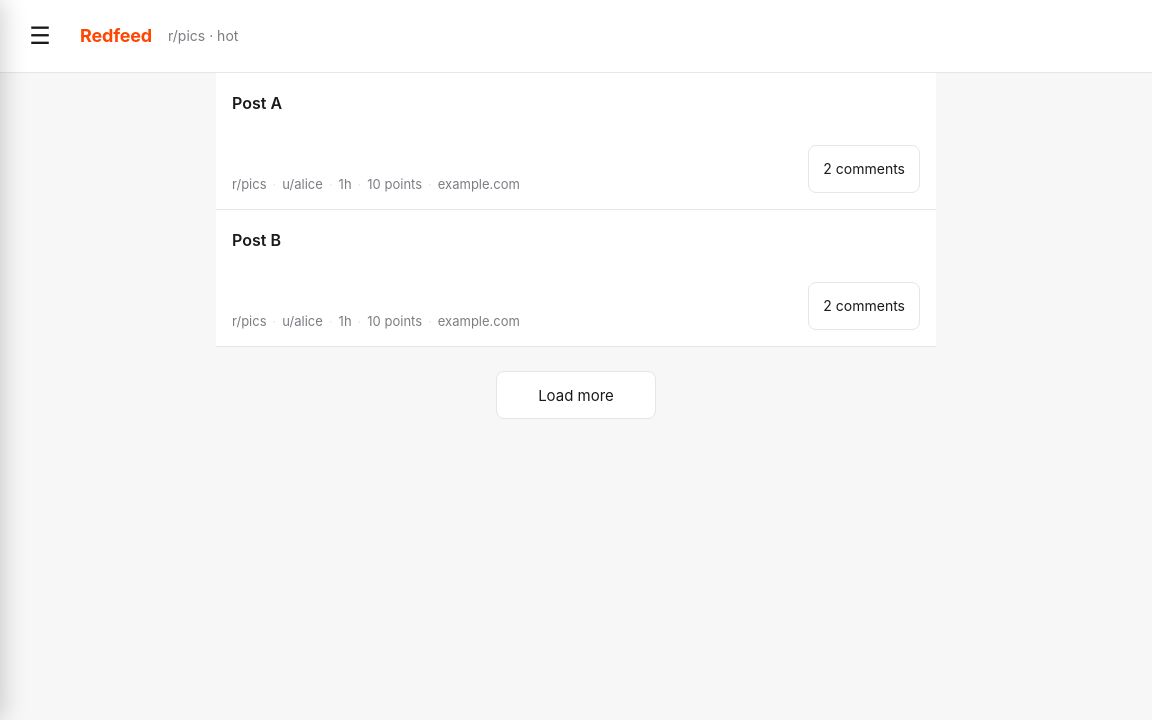
Test case: FeedPage pagination › appends a second page when Load more is tapped, then ends
The image size is (1152, 720).
Expected: the text "Post A" is shown, [232,93,282,113]
Expected: the text "Post C" is not shown
Step 1. Click the button with aria-label "load more posts" → (576, 395), box [496,371,656,419]
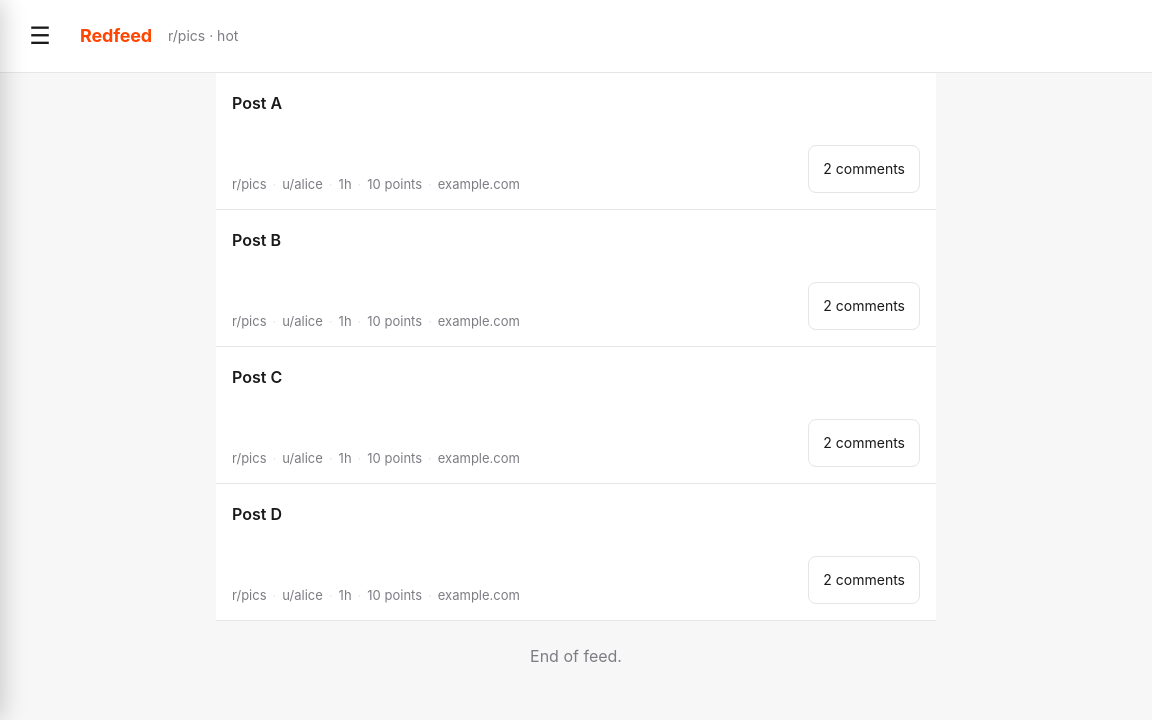
Now the text "Post C" is shown, box [232,367,282,387]
Now the text "Post D" is shown, box [232,504,282,524]
Now the text "End of feed." is shown, box [530,646,622,666]
